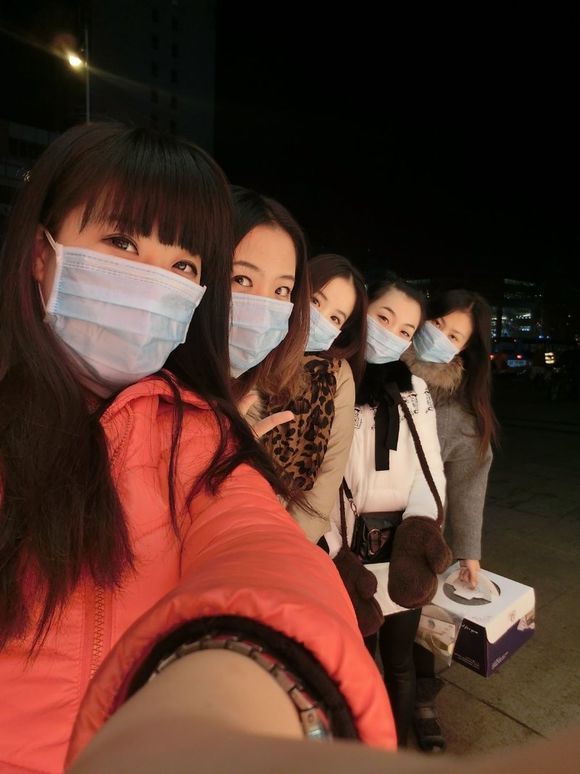face_mask: (54, 181, 204, 386), (216, 228, 297, 369), (362, 292, 419, 368), (308, 286, 353, 353), (432, 312, 469, 356)
